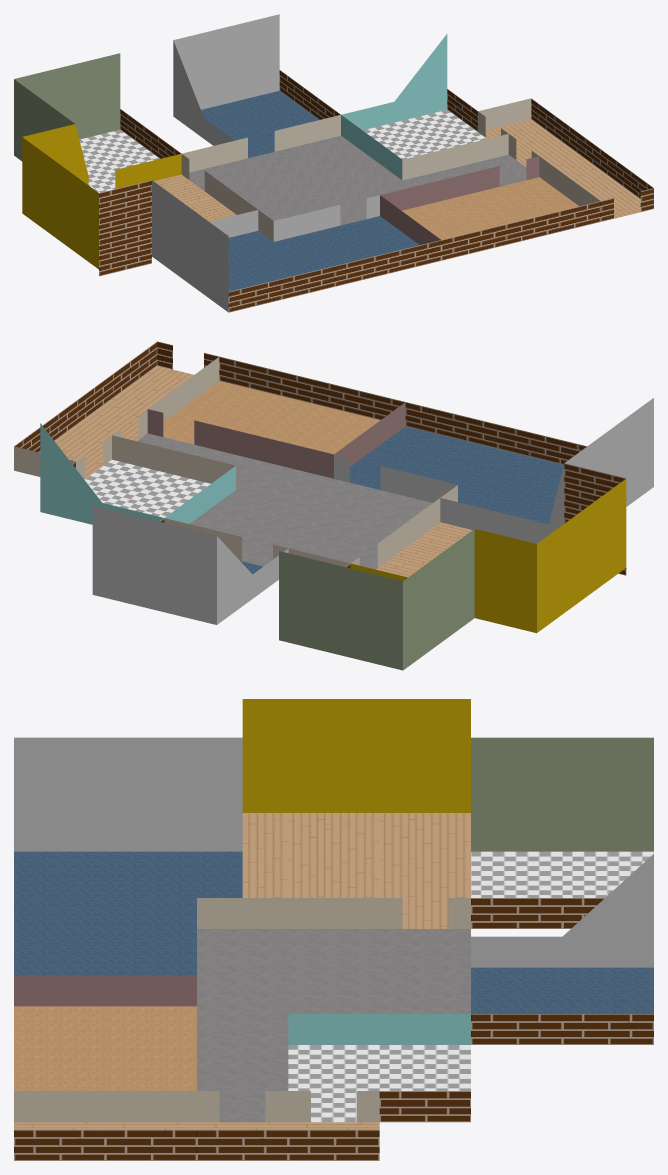
Rendered from house_layout.fbx.
3 renders of one model, top to bottom at view 1: azimuth 30°, elevation 25°; view 2: azimuth 150°, elevation 25°; view 3: azimuth 270°, elevation 25°, orthographic. The views are drawn at different scales.
Parts seen in each view (by area): view 1: polySurface1; view 2: polySurface1; view 3: polySurface1.
Boxes of the visible parts, x1,y1,x2,y2 form: polySurface1: (14, 14, 653, 312); polySurface1: (14, 341, 653, 670); polySurface1: (14, 699, 653, 1160).
Size of the model in its own units: 90 by 15 by 70.
Materials: 12 (6 with a texture image).
